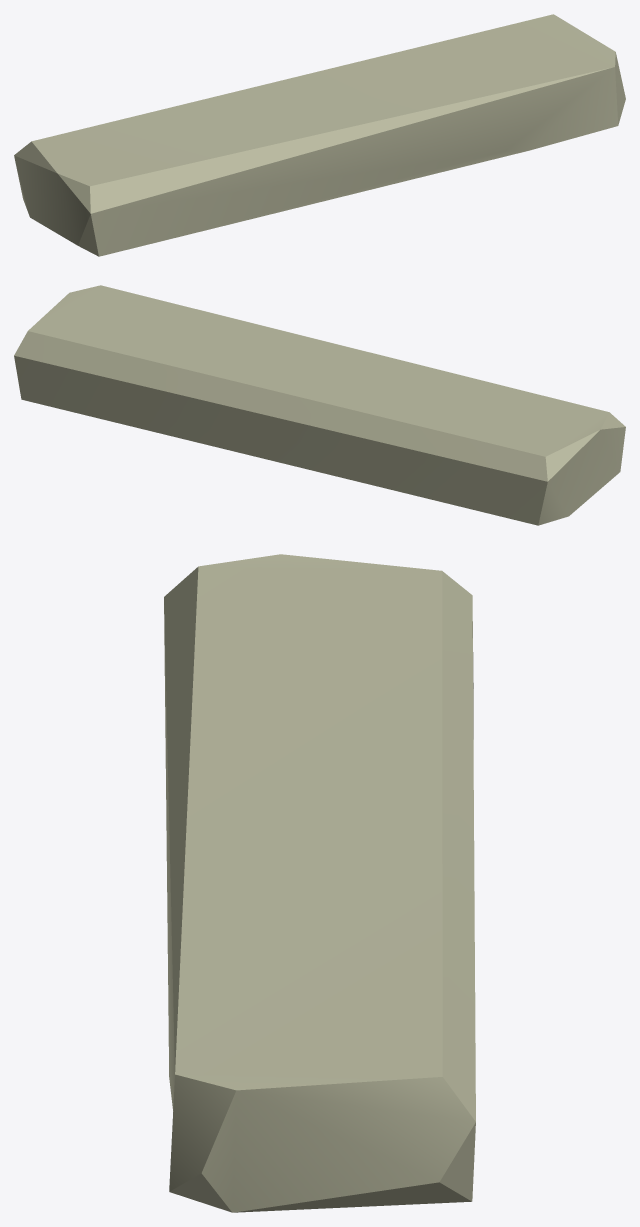
The model's file is SM_rocktile001.fbx.
3 views of the same model, one above another, from view 1: azimuth 30°, elevation 25°; view 2: azimuth 150°, elevation 25°; view 3: azimuth 270°, elevation 25° (orthographic). The views are drawn at different scales.
Parts seen in each view (by area): view 1: SM_rocktile001; view 2: SM_rocktile001; view 3: SM_rocktile001.
Part boxes in pixels (x1,y1,x2,y2): SM_rocktile001: [14, 14, 625, 256]; SM_rocktile001: [14, 285, 625, 525]; SM_rocktile001: [164, 554, 475, 1212].
Bounding box in the file's own units: 100 × 11.59 × 24.88.
